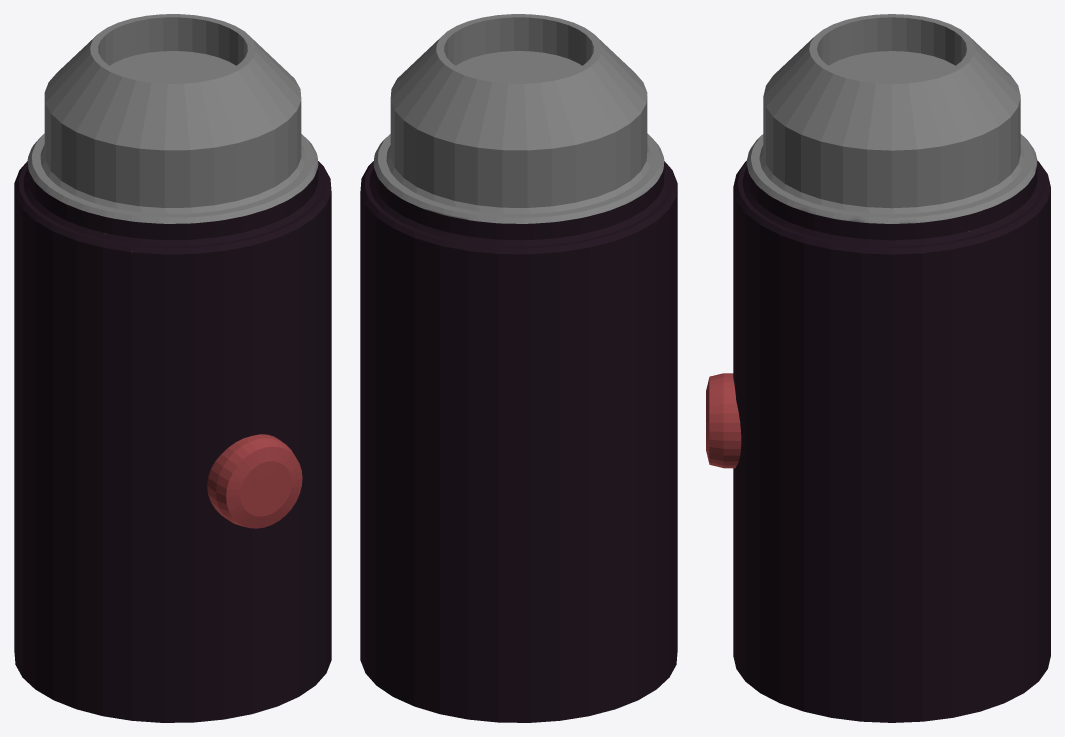
File: LaserPointer.fbx
3 renders of one model, left to right at view 1: azimuth 30°, elevation 25°; view 2: azimuth 150°, elevation 25°; view 3: azimuth 270°, elevation 25°, orthographic.
Parts seen in each view (by area): view 1: LaserPointer; view 2: LaserPointer; view 3: LaserPointer.
Boxes of the visible parts, x1,y1,x2,y2 form: LaserPointer: (14,14,331,722); LaserPointer: (360,14,677,722); LaserPointer: (706,14,1050,722).
Size of the model in its own units: 200 by 421 by 217.
Materials: 1 (1 with a texture image).
